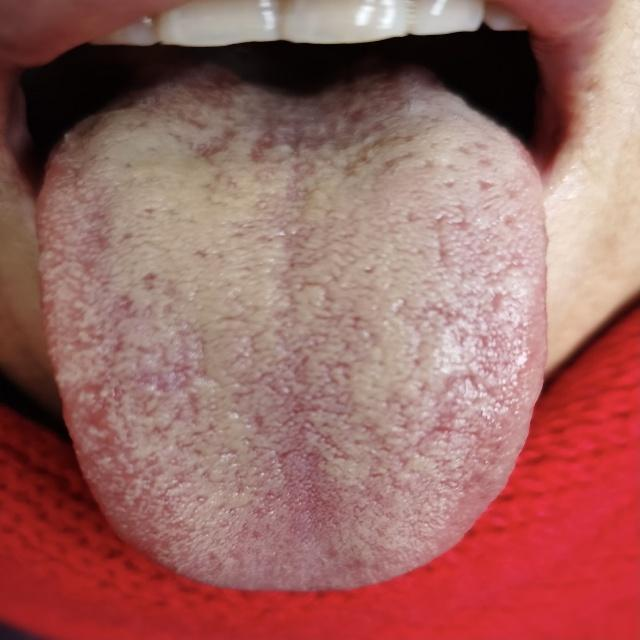huangtaishe: (35, 95, 550, 591)
